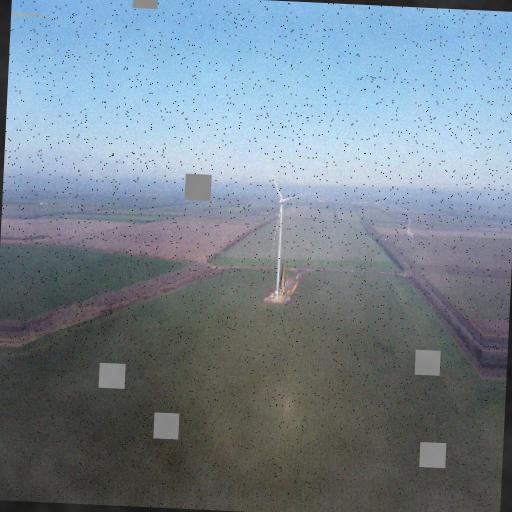wind turbine: (272, 178, 302, 307)
